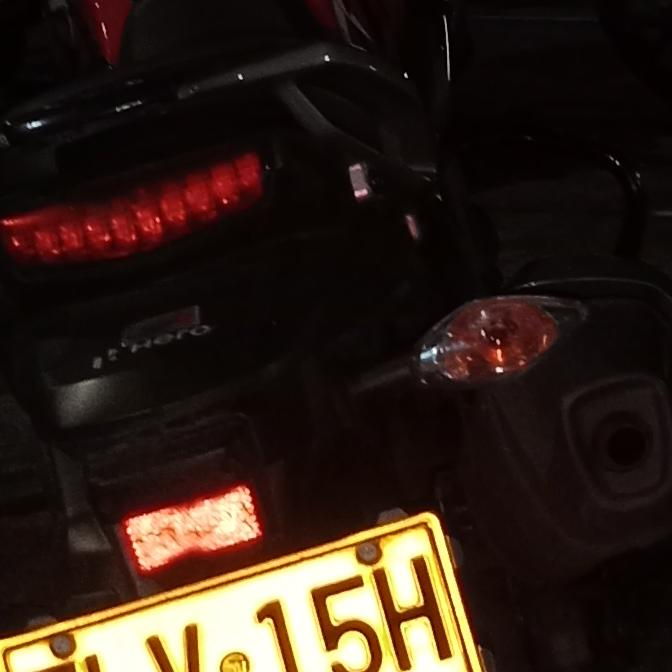plates: (0, 513, 478, 672)
